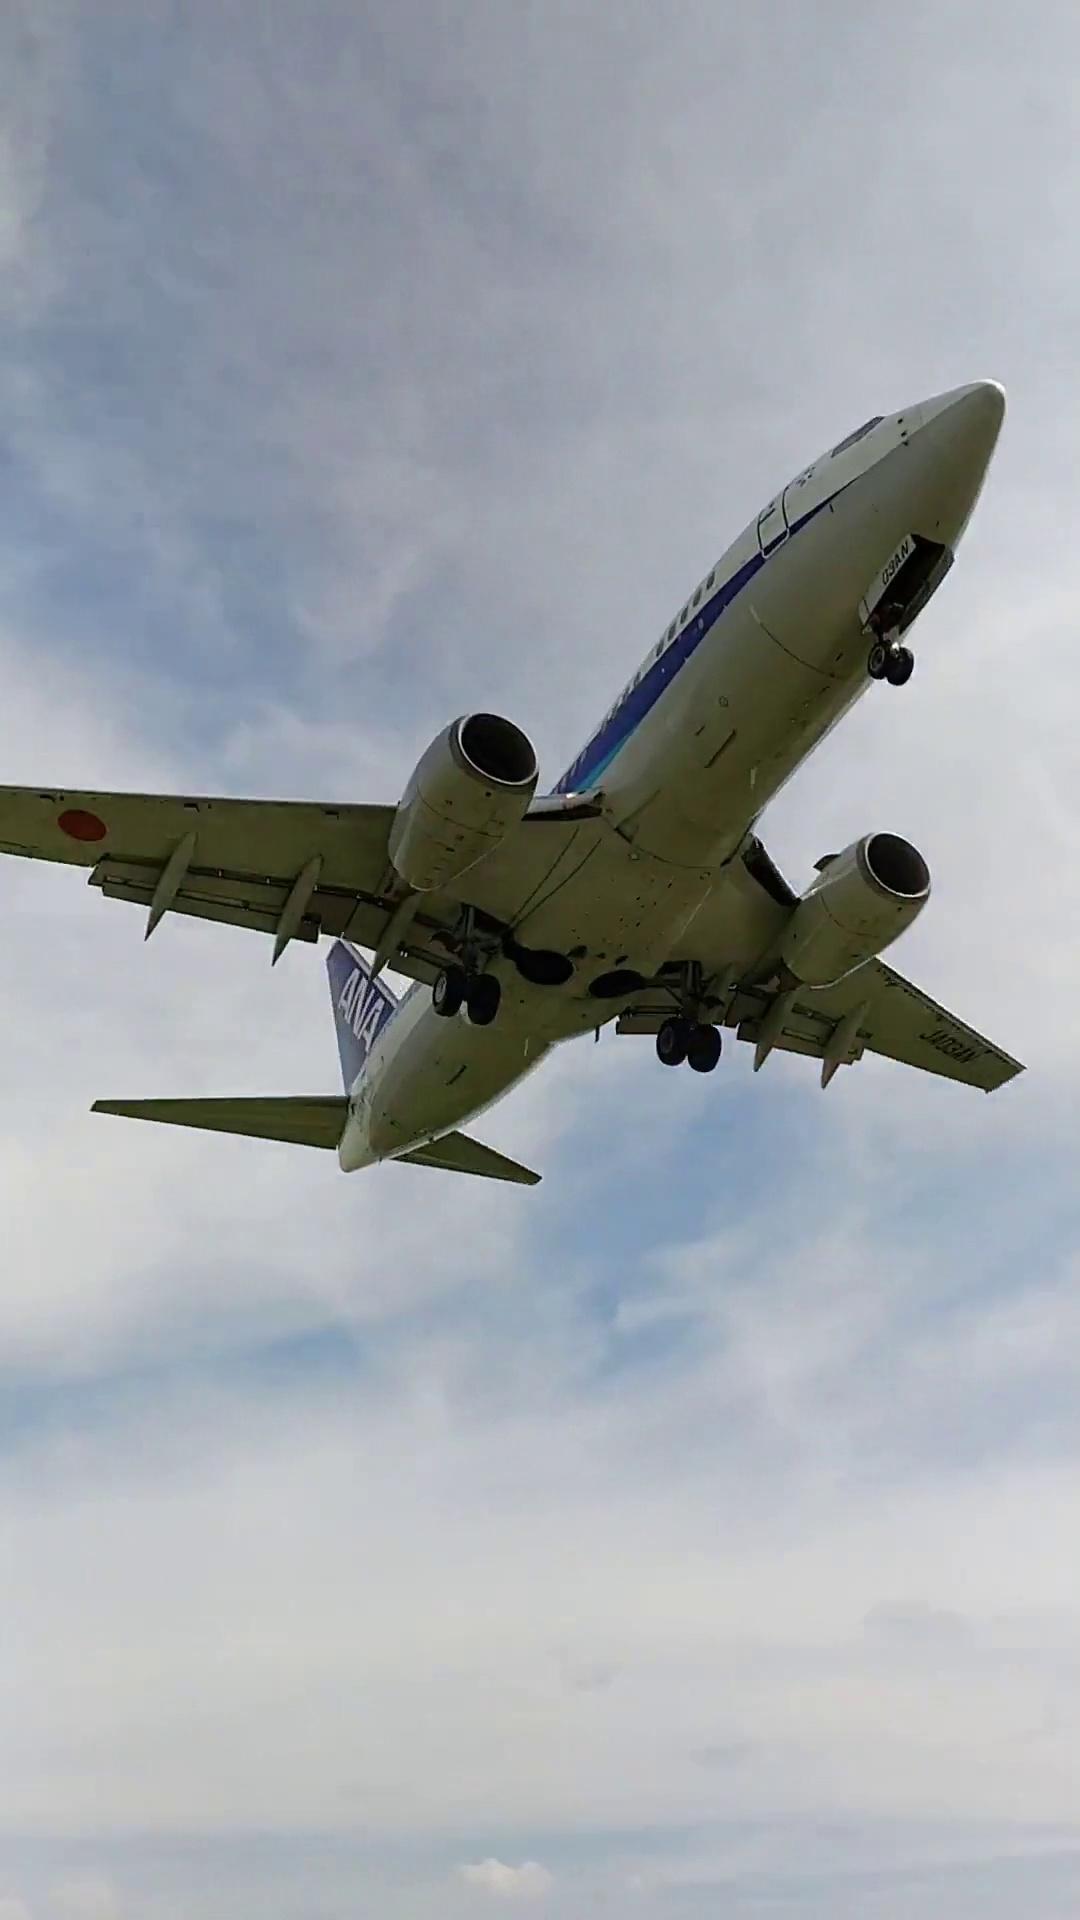plane: (1, 375, 1027, 1189)
